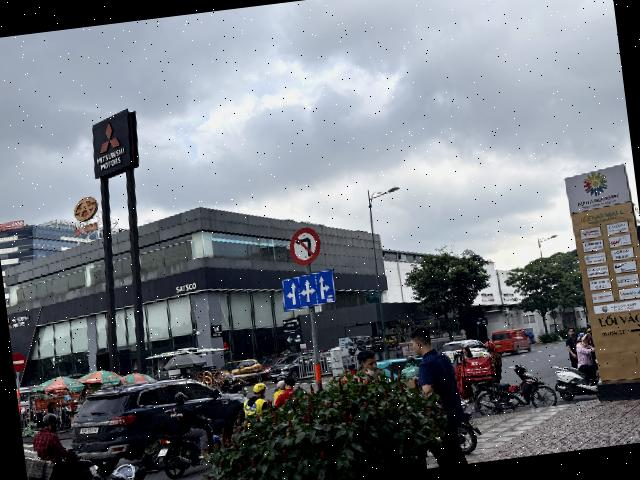cam-di-nguoc-chieu: (12, 352, 26, 373)
cam-re-trai: (286, 225, 322, 266)
